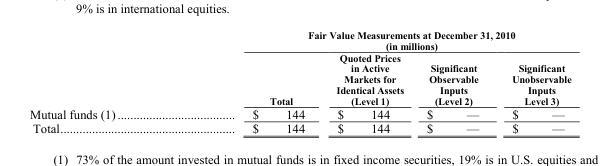table: (29, 29, 570, 134)
table column: (29, 29, 183, 134), (183, 29, 319, 134), (319, 29, 414, 134), (414, 29, 494, 134), (494, 29, 570, 134)
table column header: (29, 29, 570, 106)
table row: (29, 51, 570, 106), (29, 29, 570, 51), (29, 106, 570, 120), (29, 120, 570, 134)
table spanning cell: (183, 29, 570, 51)
